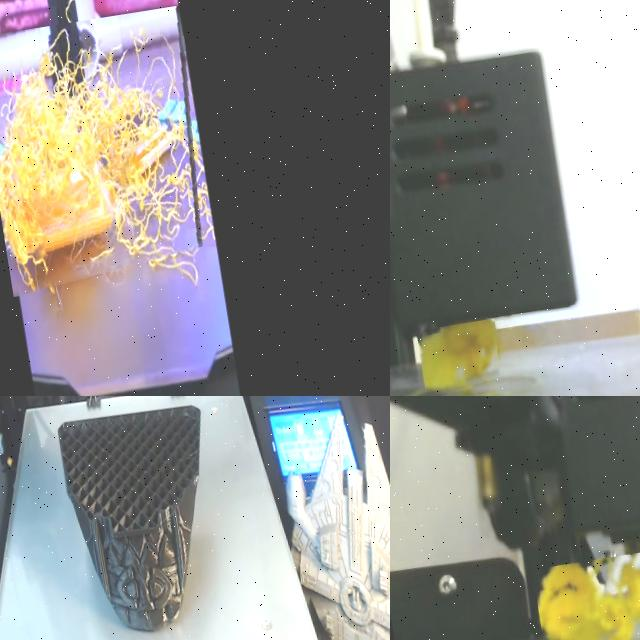spaghetti: (0, 5, 224, 299), (538, 563, 640, 640), (422, 319, 498, 391)
